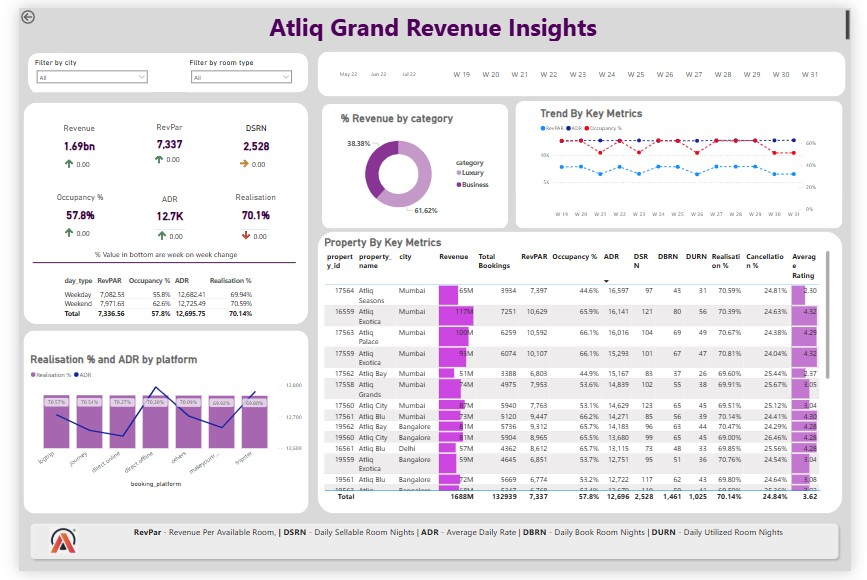

The dashboard page shown, as its layout file describes it:
{"tool":"powerbi","page":{"name":"Page 1","canvas":[1850,1250],"ordinal":0},"visuals":[{"type":"shape","box":[663.3,496.7,1166.7,626.7],"z":0},{"type":"shape","box":[10,716.7,633.3,406.7],"z":1000},{"type":"shape","box":[10,210,632.5,492.5],"z":2000},{"type":"shape","box":[663.3,96.7,1173.3,100],"z":3000},{"type":"shape","box":[20,100,622.5,87.5],"z":4000},{"type":"tableEx","title":"Property By Key Metrics","fields":{"Values":["dim_hotels.property_id","dim_hotels.property_name","dim_hotels.city","key_measures.Revenue","dim_date.Total Bookings","key_measures.RevPAR","key_measures.Occupancy %","key_measures.ADR","key_measures.DSRN","key_measures.DBRN","key_measures.DURN","key_measures.Realisation %"]},"box":[673.3,506.7,1133.3,593.3],"z":5000},{"type":"slicer","title":"Filter by city","fields":{"Values":["dim_hotels.city"]},"box":[30,110,265,77.5],"z":6000},{"type":"slicer","title":"Filter by room type","fields":{"Values":["dim_rooms.room_class"]},"box":[372.5,110,242.5,77.5],"z":7000},{"type":"slicer","fields":{"Values":["dim_date.mmm yy"]},"box":[673.3,110,250,73.3],"z":8000},{"type":"slicer","fields":{"Values":["dim_date.week no"]},"box":[926.7,110,886.7,73.3],"z":9000},{"type":"tableEx","fields":{"Values":["key_measures.Revenue WoW change %"]},"box":[90.9,300.2,87.5,65],"z":10000},{"type":"tableEx","fields":{"Values":["key_measures.Revpar WoW change %"]},"box":[291.4,290.1,85,75],"z":11000},{"type":"tableEx","fields":{"Values":["key_measures.DSRN WoW change %"]},"box":[479.2,298.7,92.5,75],"z":12000},{"type":"tableEx","fields":{"Values":["key_measures.Occupancy WoW change %"]},"box":[88.7,453.3,95,62.5],"z":13000},{"type":"tableEx","fields":{"Values":["key_measures.ADR WoW change %"]},"box":[295.6,459.3,77.5,70],"z":14000},{"type":"tableEx","fields":{"Values":["key_measures.Realisation WoW change %"]},"box":[484.2,458.6,82.5,67.5],"z":15000},{"type":"lineStackedColumnComboChart","title":"Realisation % and ADR by platform","fields":{"Y2":["key_measures.ADR"],"Category":["fact_bookings.booking_platform"],"Y":["key_measures.Realisation %"]},"box":[20,766.7,616.7,303.3],"z":16000},{"type":"tableEx","fields":{"Values":["dim_date.day_type","key_measures.RevPAR","key_measures.Occupancy %","key_measures.ADR","key_measures.Realisation %"]},"box":[90,590,452.5,107.5],"z":17000},{"type":"actionButton","box":[0,0,100,40],"z":18000},{"type":"card","title":"RevPar","fields":{"Values":["key_measures.RevPAR"]},"box":[276.4,252.6,115,75],"z":19000},{"type":"card","title":"DSRN","fields":{"Values":["key_measures.DSRN"]},"box":[471.7,256.2,107.5,80],"z":20000},{"type":"card","title":"Occupancy %","fields":{"Values":["key_measures.Occupancy %"]},"box":[73.7,408.3,125,77.5],"z":21000},{"type":"card","title":"ADR","fields":{"Values":["key_measures.ADR"]},"box":[283.1,411.8,102.5,77.5],"z":22000},{"type":"card","title":"Realisation","fields":{"Values":["key_measures.Realisation %"]},"box":[463,411.1,125,80],"z":23000},{"type":"card","title":"Revenue","fields":{"Values":["key_measures.Revenue"]},"box":[70.9,255.2,127.5,80],"z":24000},{"type":"shape","box":[673.3,213.3,413.3,276.7],"z":25000},{"type":"donutChart","title":"% Revenue by category","fields":{"Category":["dim_hotels.category"],"Y":["key_measures.Revenue"]},"box":[710,230,350,250],"z":26000},{"type":"shape","box":[1103.3,206.7,726.7,283.3],"z":27000},{"type":"lineChart","title":"Trend By Key Metrics","fields":{"Category":["dim_date.mmm yy.Variation.Date Hierarchy.Month","dim_date.week no"],"Y":["key_measures.RevPAR","key_measures.ADR"],"Y2":["key_measures.Occupancy %"]},"box":[1153.3,220,623.3,256.7],"z":28000},{"type":"shape","box":[16.7,1136.7,1813.3,96.7],"z":29000},{"type":"image","box":[56.7,1146.7,83.3,73.3],"z":30000},{"type":"textbox","box":[176.7,1146.7,1600,73.3],"z":31000},{"type":"textbox","box":[0,0,1850,77.5],"z":32000},{"type":"textbox","box":[87.5,530,480,40],"z":33000},{"type":"shape","box":[30,412.5,585,305],"z":34000}]}

Visuals, with their boxes in screenshot pixels (x1, y1, x2, y2), scaled from the page's 1850x1250 canvas onto the 867x580 screenshot:
shape: 311:230:858:521
shape: 5:333:301:521
shape: 5:97:301:326
shape: 311:45:861:91
shape: 9:46:301:87
"Property By Key Metrics" tableEx: 316:235:847:510
"Filter by city" slicer: 14:51:138:87
"Filter by room type" slicer: 175:51:288:87
slicer - dim_date.mmm yy: 316:51:433:85
slicer - dim_date.week no: 434:51:850:85
tableEx - key_measures.Revenue WoW change %: 43:139:84:169
tableEx - key_measures.Revpar WoW change %: 137:135:176:169
tableEx - key_measures.DSRN WoW change %: 225:139:268:173
tableEx - key_measures.Occupancy WoW change %: 42:210:86:239
tableEx - key_measures.ADR WoW change %: 139:213:175:246
tableEx - key_measures.Realisation WoW change %: 227:213:266:244
"Realisation % and ADR by platform" lineStackedColumnComboChart: 9:356:298:496
tableEx - dim_date.day_type x key_measures.RevPAR: 42:274:254:324
actionButton: 0:0:47:19
"RevPar" card: 130:117:183:152
"DSRN" card: 221:119:271:156
"Occupancy %" card: 35:189:93:225
"ADR" card: 133:191:181:227
"Realisation" card: 217:191:276:228
"Revenue" card: 33:118:93:156
shape: 316:99:509:227
"% Revenue by category" donutChart: 333:107:497:223
shape: 517:96:858:227
"Trend By Key Metrics" lineChart: 540:102:833:221
shape: 8:527:858:572
image: 27:532:66:566
textbox: 83:532:833:566
textbox: 0:0:866:36
textbox: 41:246:266:264
shape: 14:191:288:333
